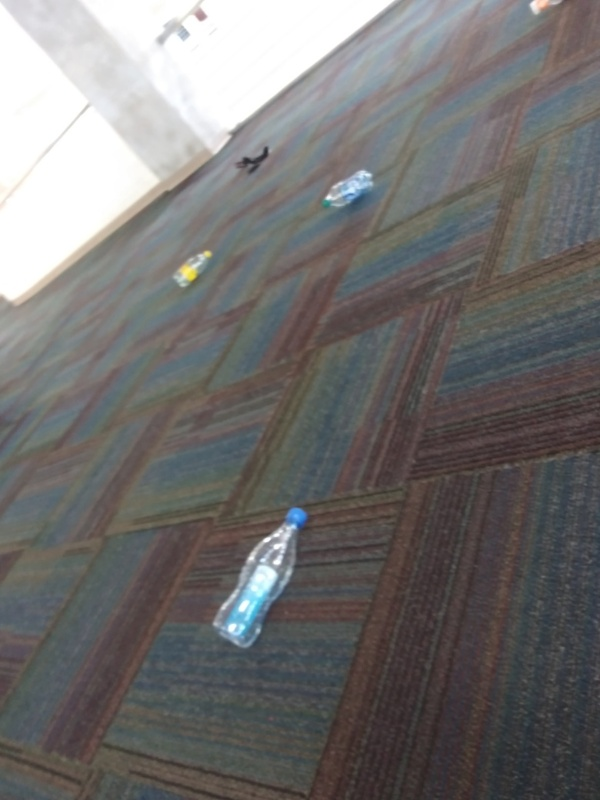bottle: (209, 503, 315, 654), (320, 165, 377, 211), (169, 245, 216, 292)
